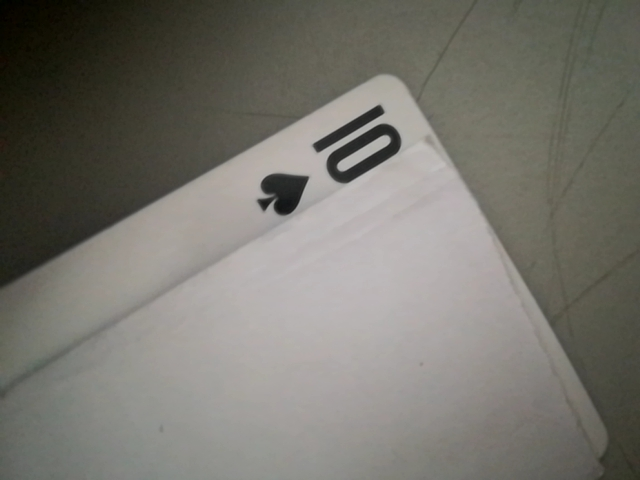ht 10: (238, 94, 420, 218)
